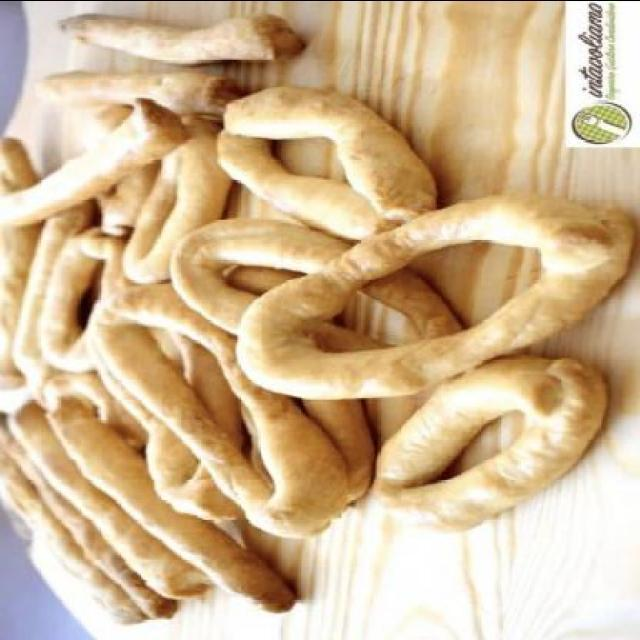Taralli: (8, 14, 617, 622)
